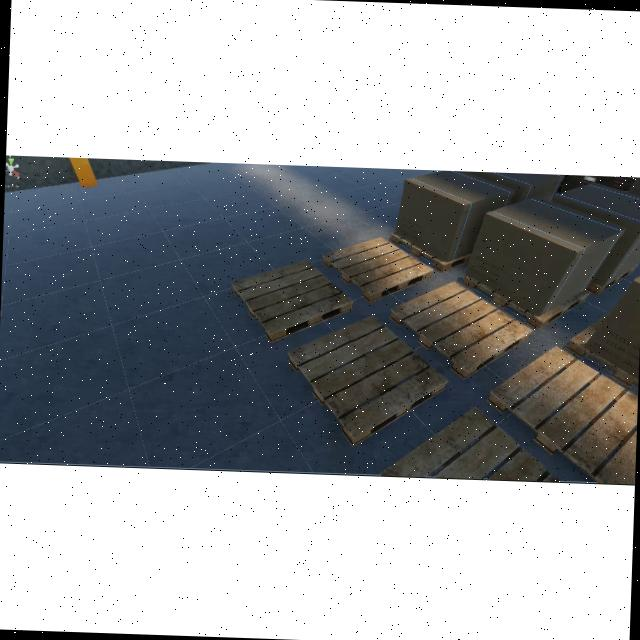wooden_pallet: (287, 315, 448, 447), (388, 281, 531, 381), (231, 260, 353, 343), (321, 236, 433, 303), (461, 273, 590, 330), (390, 231, 472, 272)
